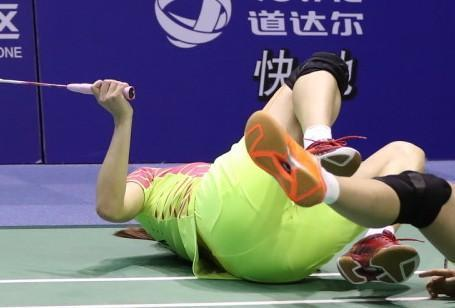Fall-Detected: (59, 39, 446, 296)
